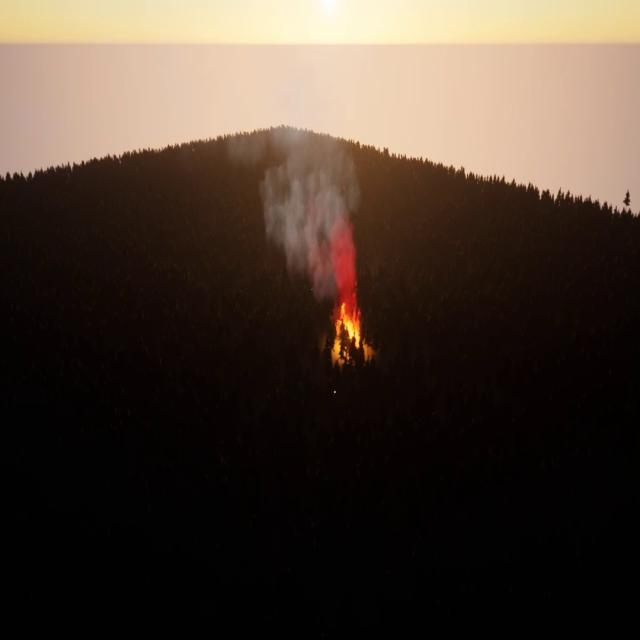fire: (330, 301, 373, 363)
smoke: (238, 116, 370, 309)
